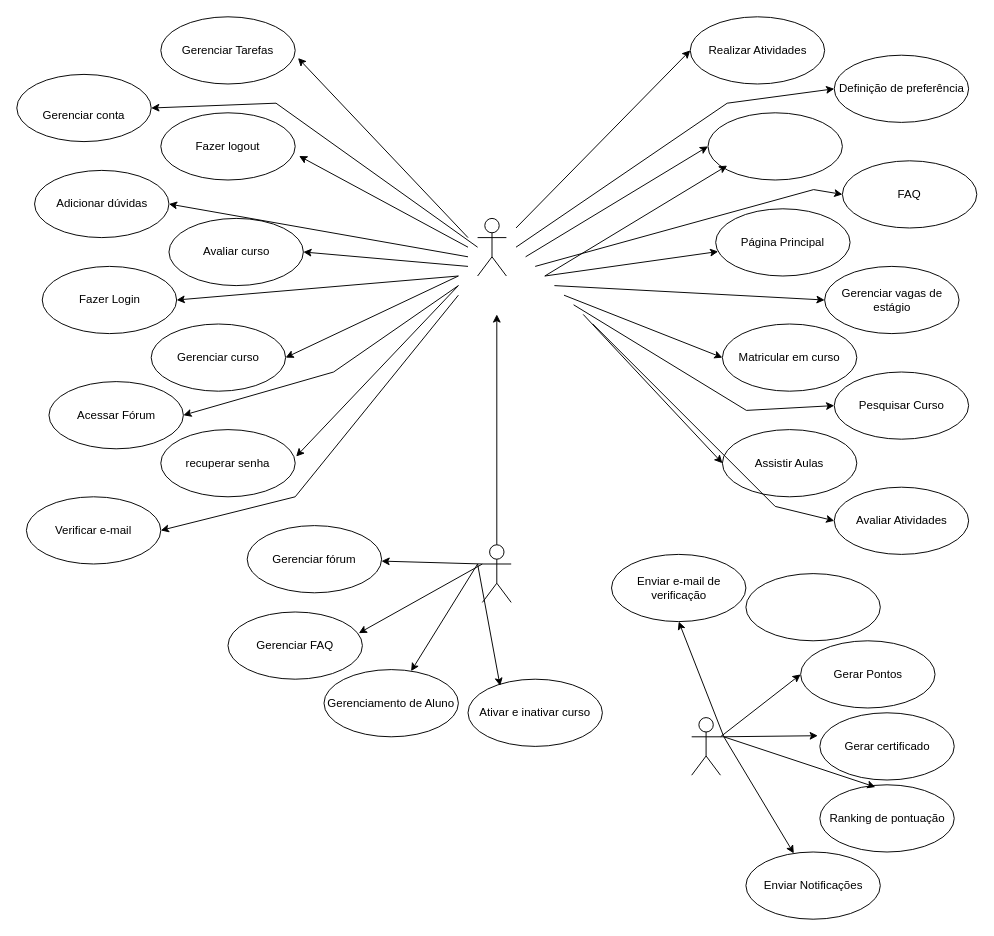
Image size: 994x936. Some labels were removed from this diagram. Each missing label, with the centre of its shape:
"Administrador" goes at (x=496, y=573).
"Meu perfil" goes at (x=774, y=146).
"Obter emblema após finalização de curos" goes at (x=812, y=607).
"Sistema" goes at (x=705, y=746).
"Usuário" goes at (x=491, y=246).
